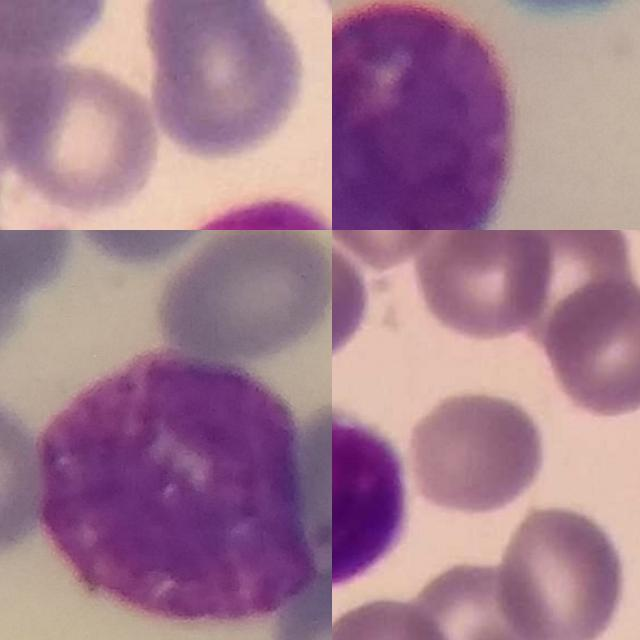Basophil: (37, 354, 314, 623), (332, 0, 512, 230)
Lymphocyte: (332, 403, 411, 594)
